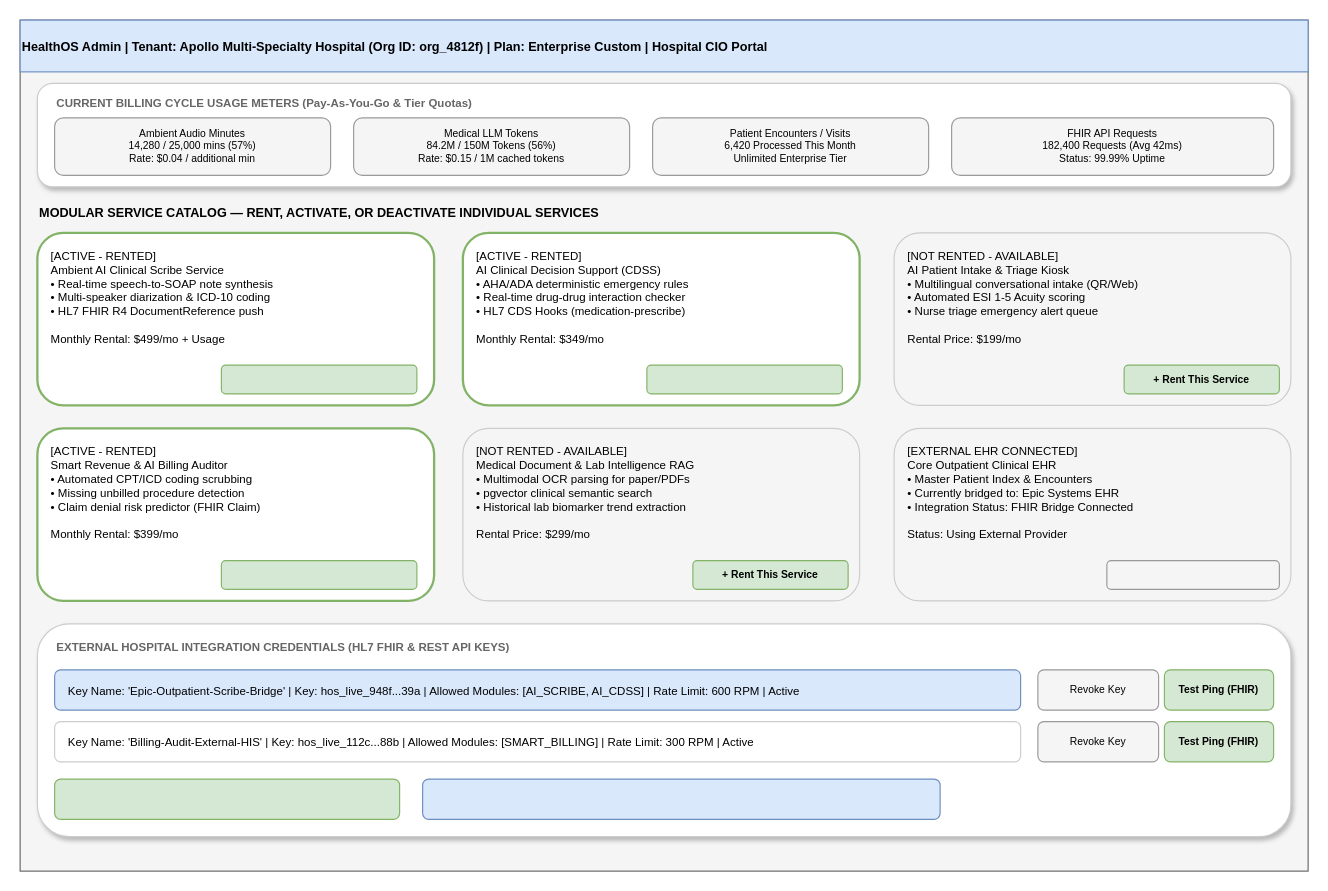
Some shapes in this 1328 by 891 pixel diagram are drawn without their labels. Each missing label, with the centre of its shape:
"+ Generate New Scoped Hospital API Key" goes at [226,798].
"Configure Tariffs & Payers" goes at [318,574].
"Download HL7 FHIR R4 OpenAPI Swagger & Postman Collection" goes at [680,798].
"Manage Rules & Endpoints" goes at [744,379].
"Manage Service & Seats" goes at [318,379].
"View FHIR Bridge Logs" goes at [1192,574].
